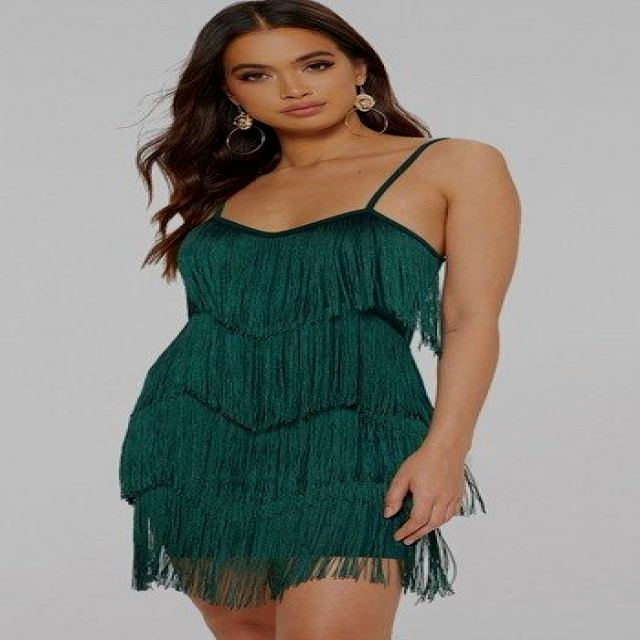Miniskirt: (118, 366, 488, 640)
Sleeveless: (444, 138, 519, 194)
low_neckline: (177, 137, 444, 339)
